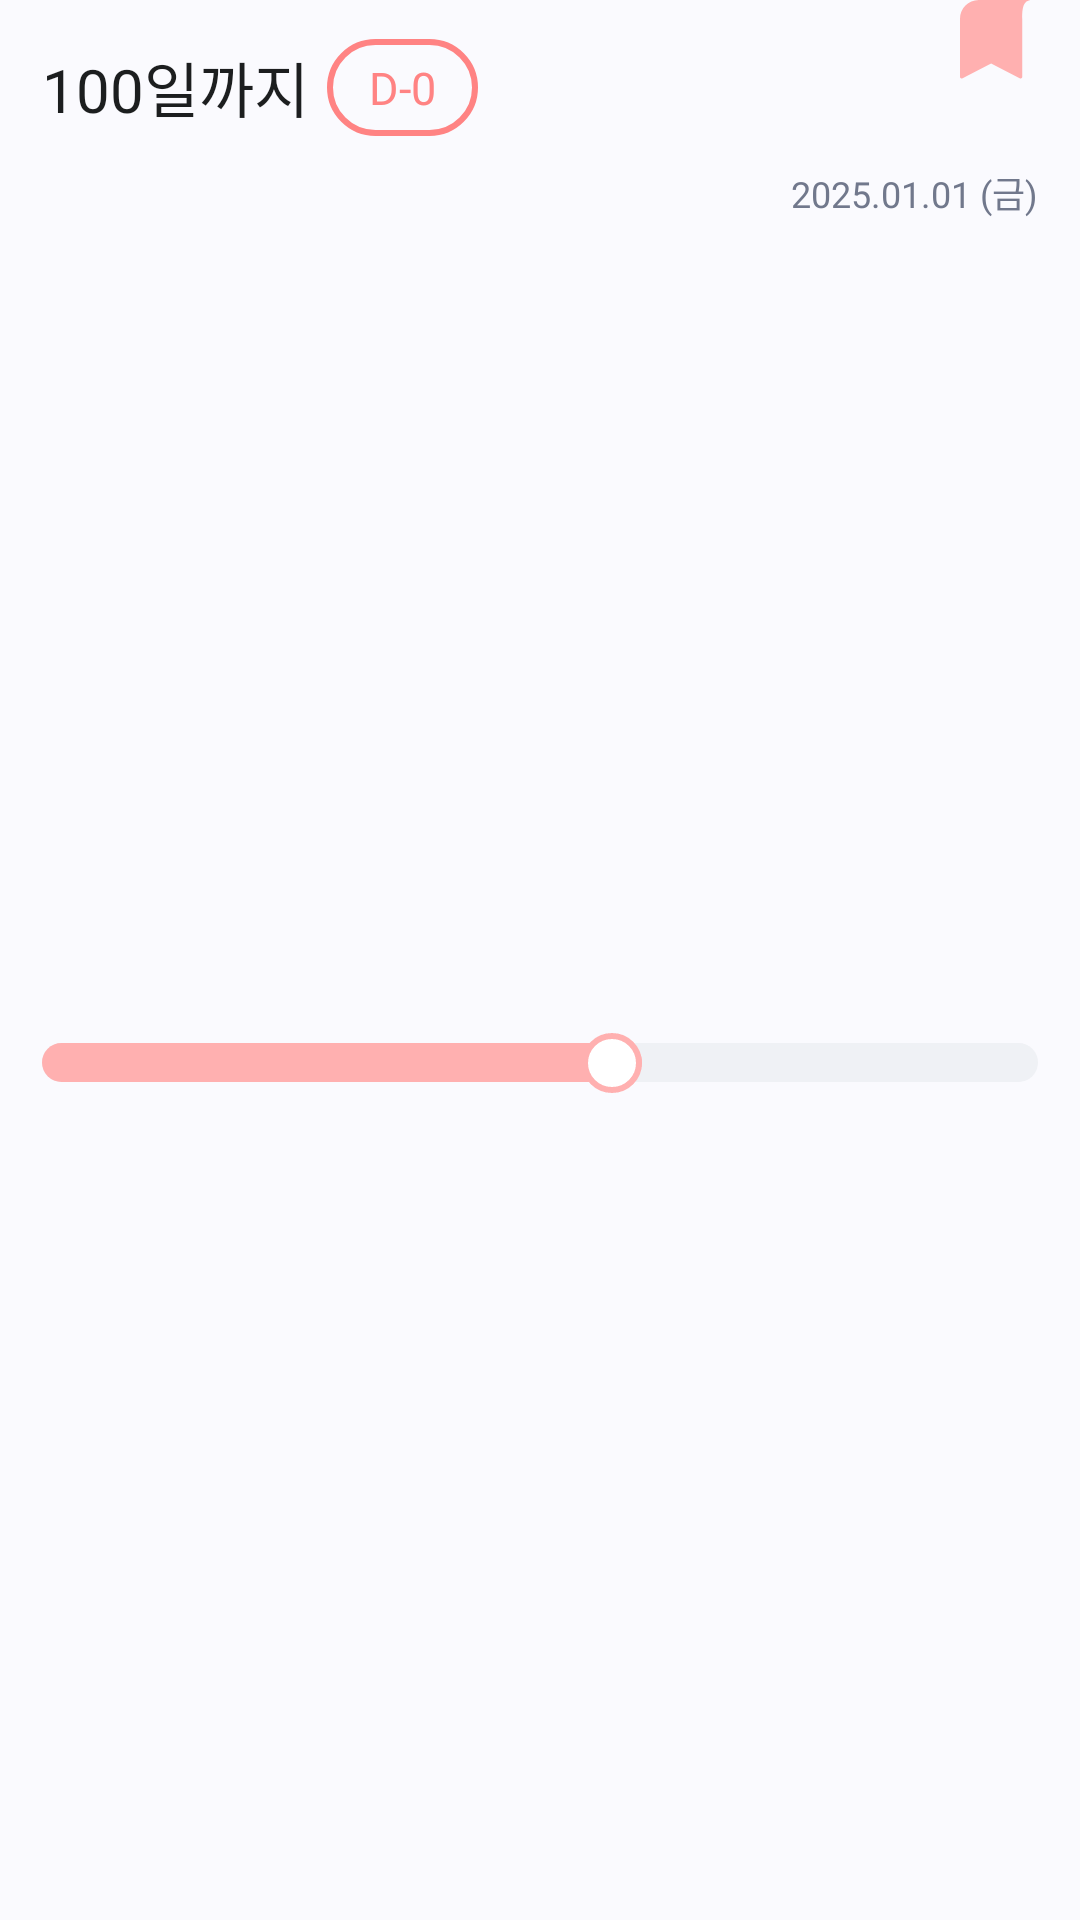

Screen size 1080px x 1920px. Icon name, then its center in pixels as [x,y]:
bookmark: [994,39]
